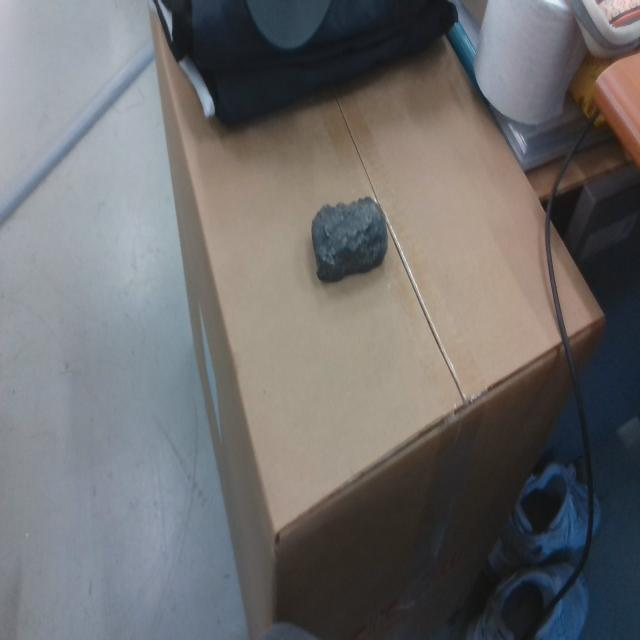stone: (311, 197, 388, 283)
